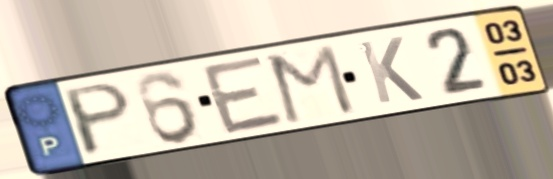2: (424, 25, 493, 97)
6: (134, 69, 205, 148)
E: (197, 52, 291, 138)
K: (354, 34, 428, 107)
M: (265, 41, 360, 127)
P: (60, 79, 134, 160)
